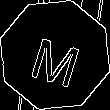M_N: (26, 24, 84, 86)
